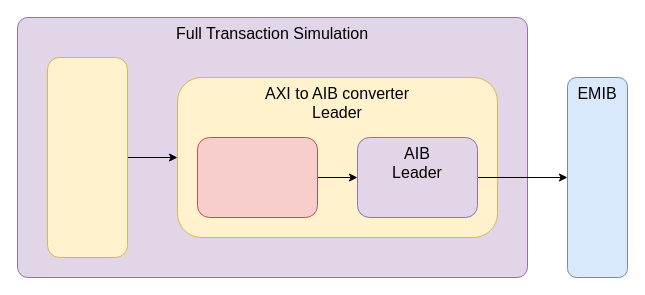
Some shapes in this 645 by 295 pixel diagram are drawn without their labels. The shapes that lost their labels are listed below. From the top down, each one's centre as x and y in pixels, then its label:
At (87,157): "AXI Crossbar".
At (257,177): "AXI Leader".
